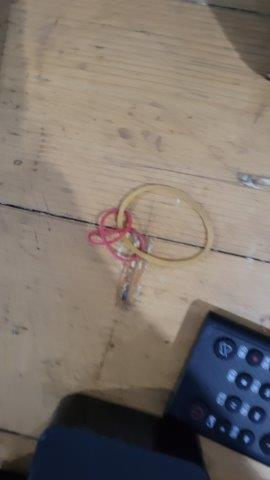karet: (85, 185, 212, 270)
